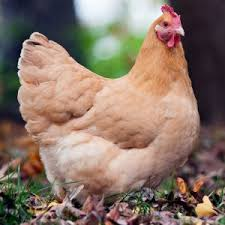chicken: (14, 2, 207, 213)
